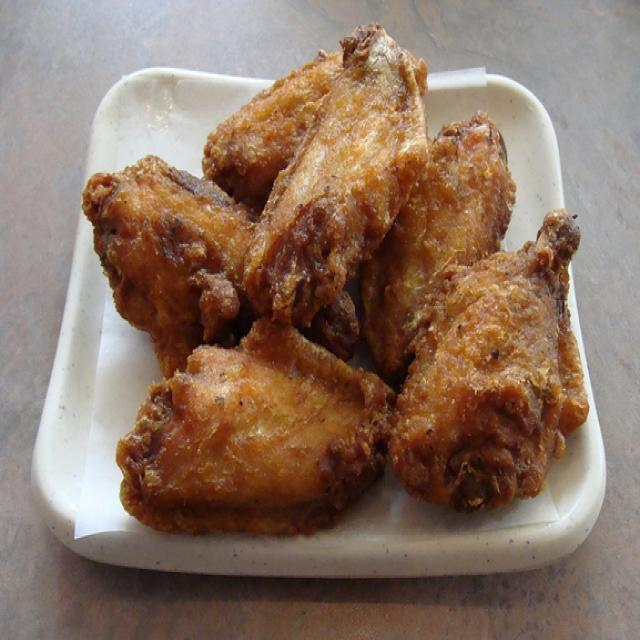Deep fried chicken wing: (84, 55, 598, 529)
